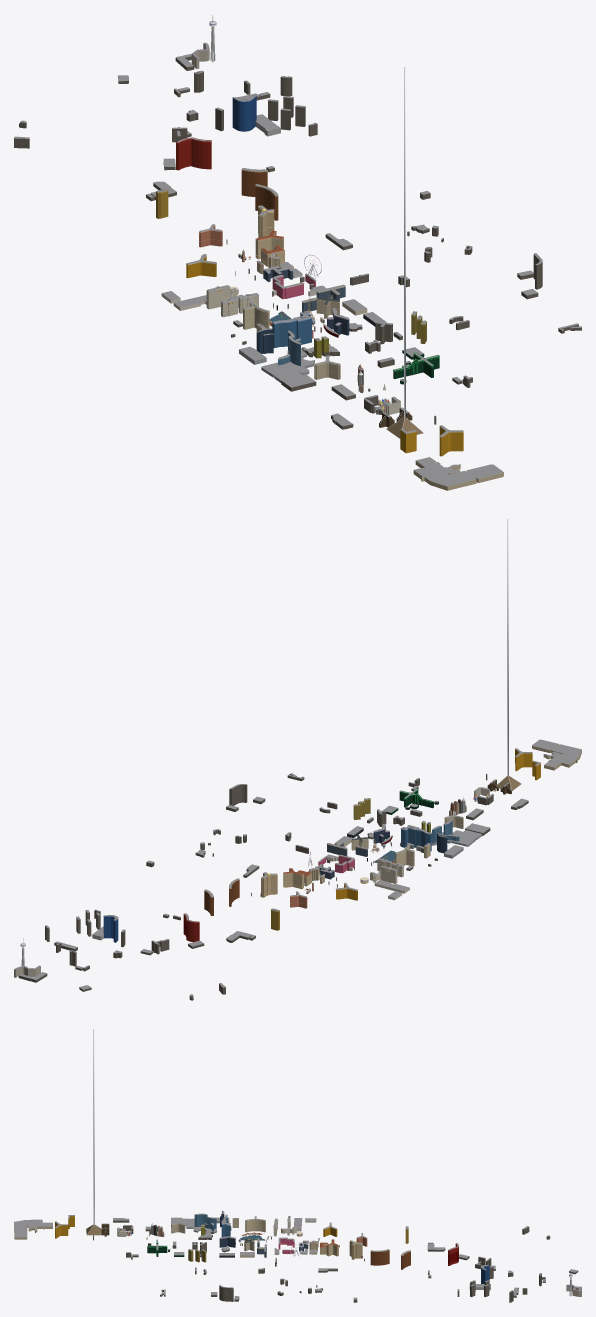
Rendered from vegas_strip.glb.
3 views of the same model, one above another, from view 1: azimuth 30°, elevation 25°; view 2: azimuth 150°, elevation 25°; view 3: azimuth 270°, elevation 25° (orthographic). The views are drawn at different scales.
Visible parts, largest first — view 1: b_w116660354, b_w316303708, b_w134068318, b_w52175576, luxor_beam, b_w27910891, b_w27858550; view 2: b_w116660354; view 3: b_w116660354, luxor_beam.
Boxes of the visible parts, bbox=[...] form: b_w116660354: bbox=[413, 457, 503, 490]; b_w316303708: bbox=[176, 137, 211, 170]; b_w134068318: bbox=[232, 95, 256, 131]; b_w52175576: bbox=[261, 348, 314, 382]; luxor_beam: bbox=[404, 67, 405, 417]; b_w27910891: bbox=[241, 168, 267, 196]; b_w27858550: bbox=[439, 425, 463, 456]; b_w116660354: bbox=[532, 739, 581, 770]; b_w116660354: bbox=[14, 1219, 52, 1239]; luxor_beam: bbox=[93, 1029, 94, 1224].
Bounding box in the file's own units: 2378 × 2707 × 6870.
